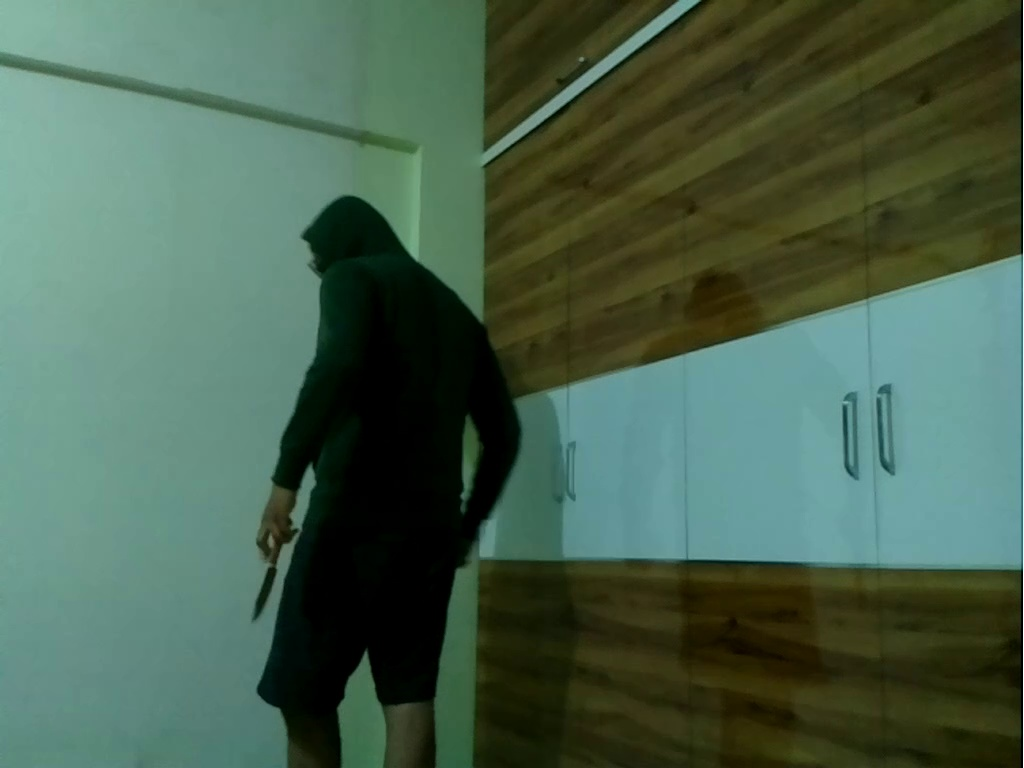knife: (235, 519, 296, 625)
